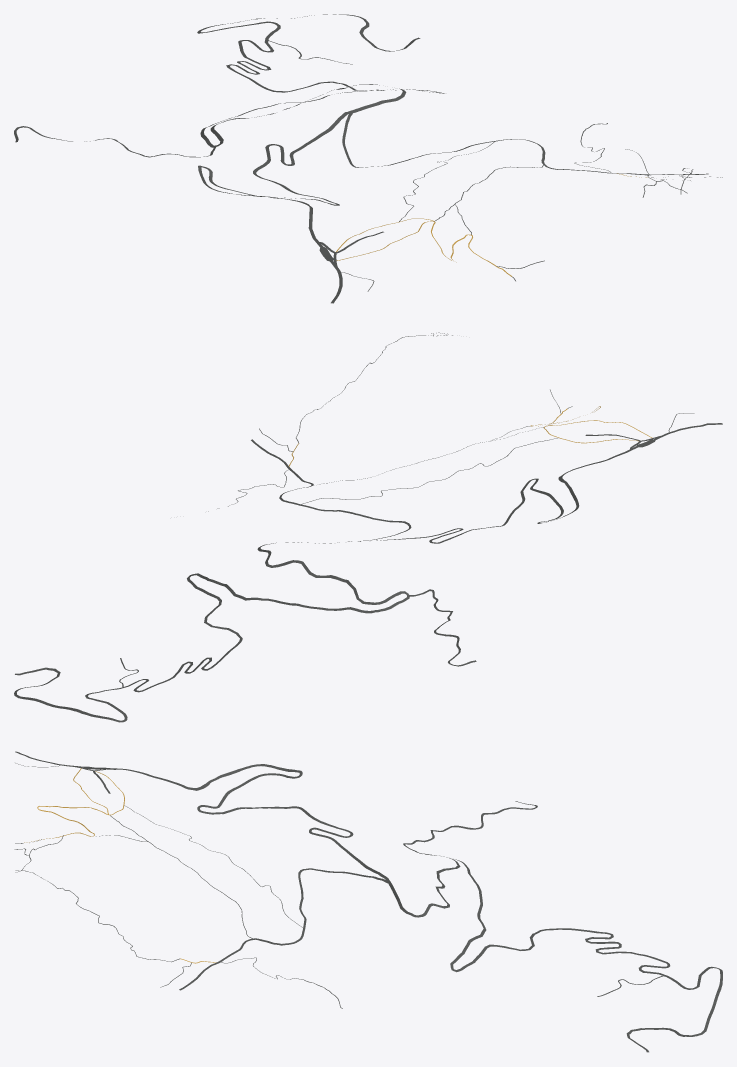
File: road.glb
3 views of the same model, one above another, from view 1: azimuth 30°, elevation 25°; view 2: azimuth 150°, elevation 25°; view 3: azimuth 270°, elevation 25° (orthographic). The views are drawn at different scales.
Visible parts, largest first — view 1: map_20.osm_roads_primary, map_20.osm_paths_footway, map_20.osm_roads_tertiary, map_20.osm_roads_unclassified, map_20.osm_roads_track; view 2: map_20.osm_roads_primary, map_20.osm_paths_footway; view 3: map_20.osm_roads_primary, map_20.osm_paths_footway, map_20.osm_roads_tertiary, map_20.osm_roads_unclassified.
Part boxes in pixels (x1=…): map_20.osm_roads_primary: x1=197, y1=14, x2=444, y2=303; map_20.osm_paths_footway: x1=340, y1=123, x2=722, y2=291; map_20.osm_roads_tertiary: x1=342, y1=111, x2=708, y2=175; map_20.osm_roads_unclassified: x1=14, y1=126, x2=383, y2=267; map_20.osm_roads_track: x1=336, y1=173, x2=647, y2=276; map_20.osm_roads_primary: x1=14, y1=423, x2=722, y2=722; map_20.osm_paths_footway: x1=208, y1=332, x2=694, y2=511; map_20.osm_roads_primary: x1=15, y1=751, x2=722, y2=1052; map_20.osm_paths_footway: x1=14, y1=763, x2=342, y2=1008; map_20.osm_roads_tertiary: x1=179, y1=868, x2=389, y2=990; map_20.osm_roads_unclassified: x1=70, y1=766, x2=537, y2=853.
Size of the model in its own units: 1481 by 559 by 2309.
